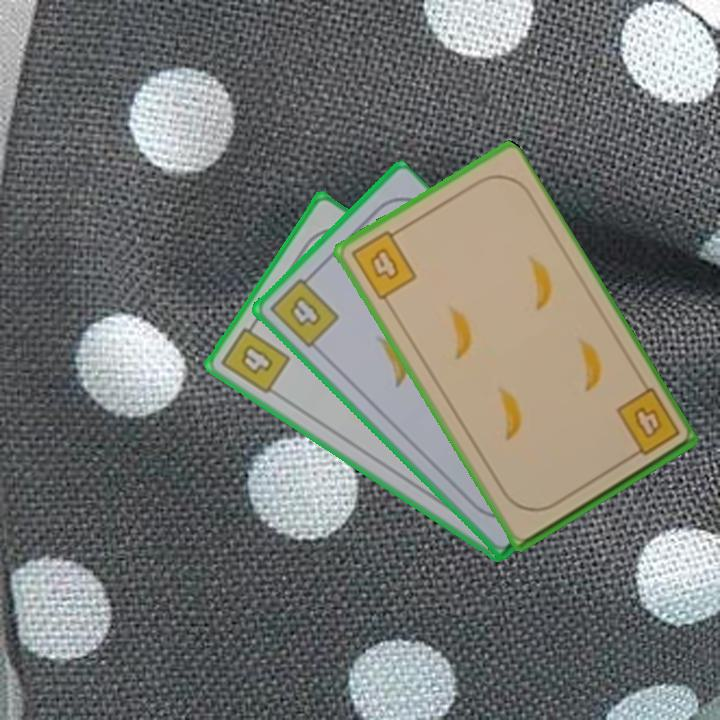4b: (266, 269, 342, 352), (217, 315, 293, 397), (347, 224, 420, 303), (612, 384, 683, 463)
